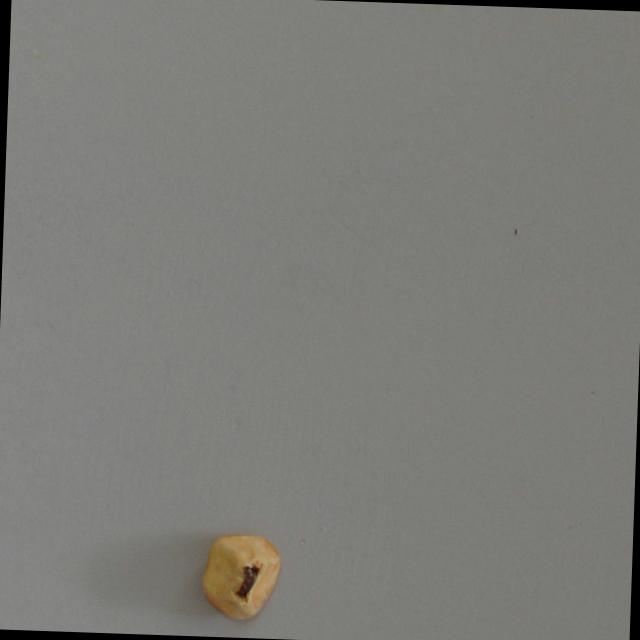dañado: (190, 514, 291, 639)
